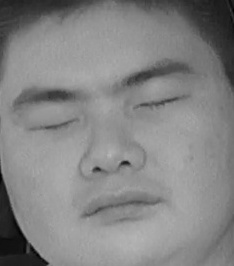blink: (19, 108, 82, 141), (133, 86, 190, 121)
mouth: (78, 183, 168, 230)
